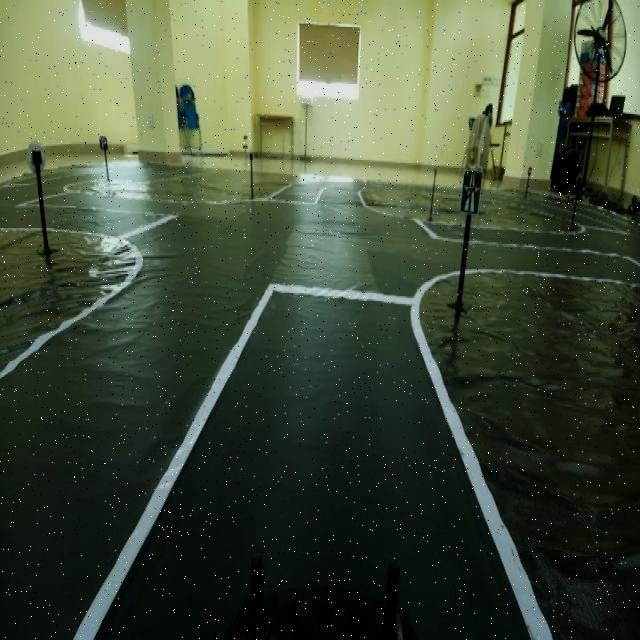highway_exit: (457, 162, 485, 222)
